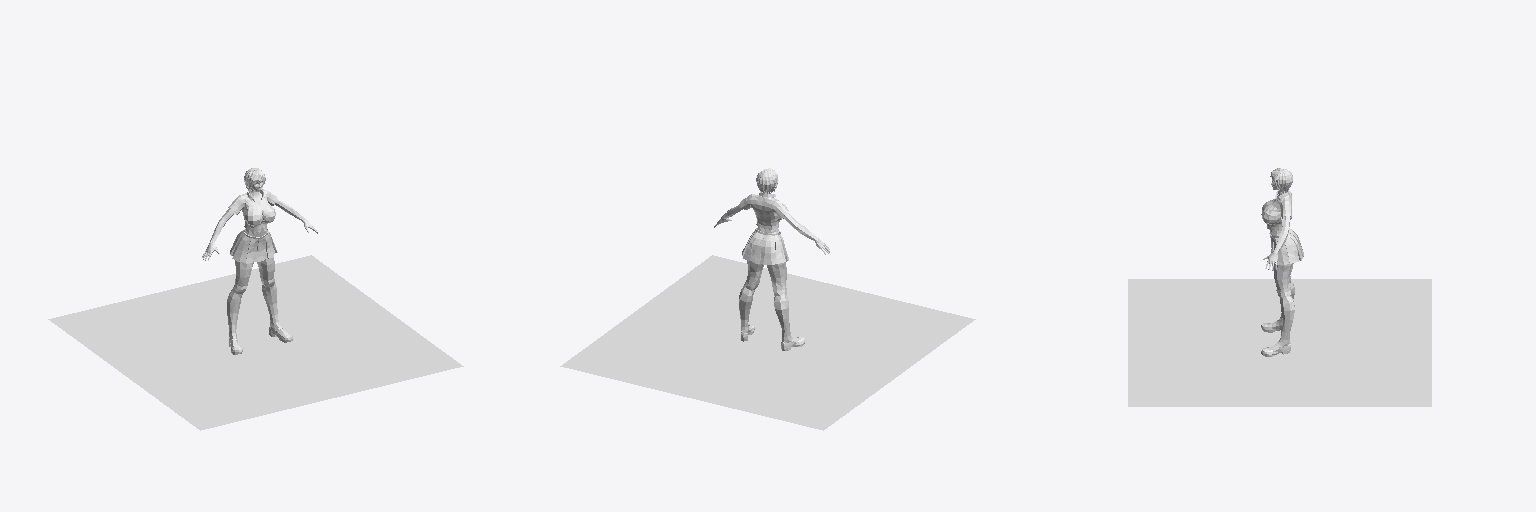
Rendered from Female00.obj.
The picture shows the model from 3 angles: view 1: azimuth 30°, elevation 25°; view 2: azimuth 150°, elevation 25°; view 3: azimuth 270°, elevation 25°; orthographic projection.
Parts seen in each view (by area): view 1: 002_floor_Plane, 001_piel_Plane.004, 000_cabello2.002_Plane.005; view 2: 002_floor_Plane, 001_piel_Plane.004, 000_cabello2.002_Plane.005; view 3: 002_floor_Plane, 001_piel_Plane.004, 000_cabello2.002_Plane.005.
Boxes of the visible parts, box(x1,y1,x2,y2) form: 002_floor_Plane: box(48, 255, 463, 430); 001_piel_Plane.004: box(202, 177, 317, 347); 000_cabello2.002_Plane.005: box(228, 189, 292, 354); 002_floor_Plane: box(560, 255, 975, 430); 001_piel_Plane.004: box(714, 191, 829, 343); 000_cabello2.002_Plane.005: box(740, 191, 804, 350); 002_floor_Plane: box(1128, 279, 1431, 406); 001_piel_Plane.004: box(1263, 176, 1294, 351); 000_cabello2.002_Plane.005: box(1261, 190, 1303, 356).
Bounding box in the file's own units: 614 × 387 × 614.